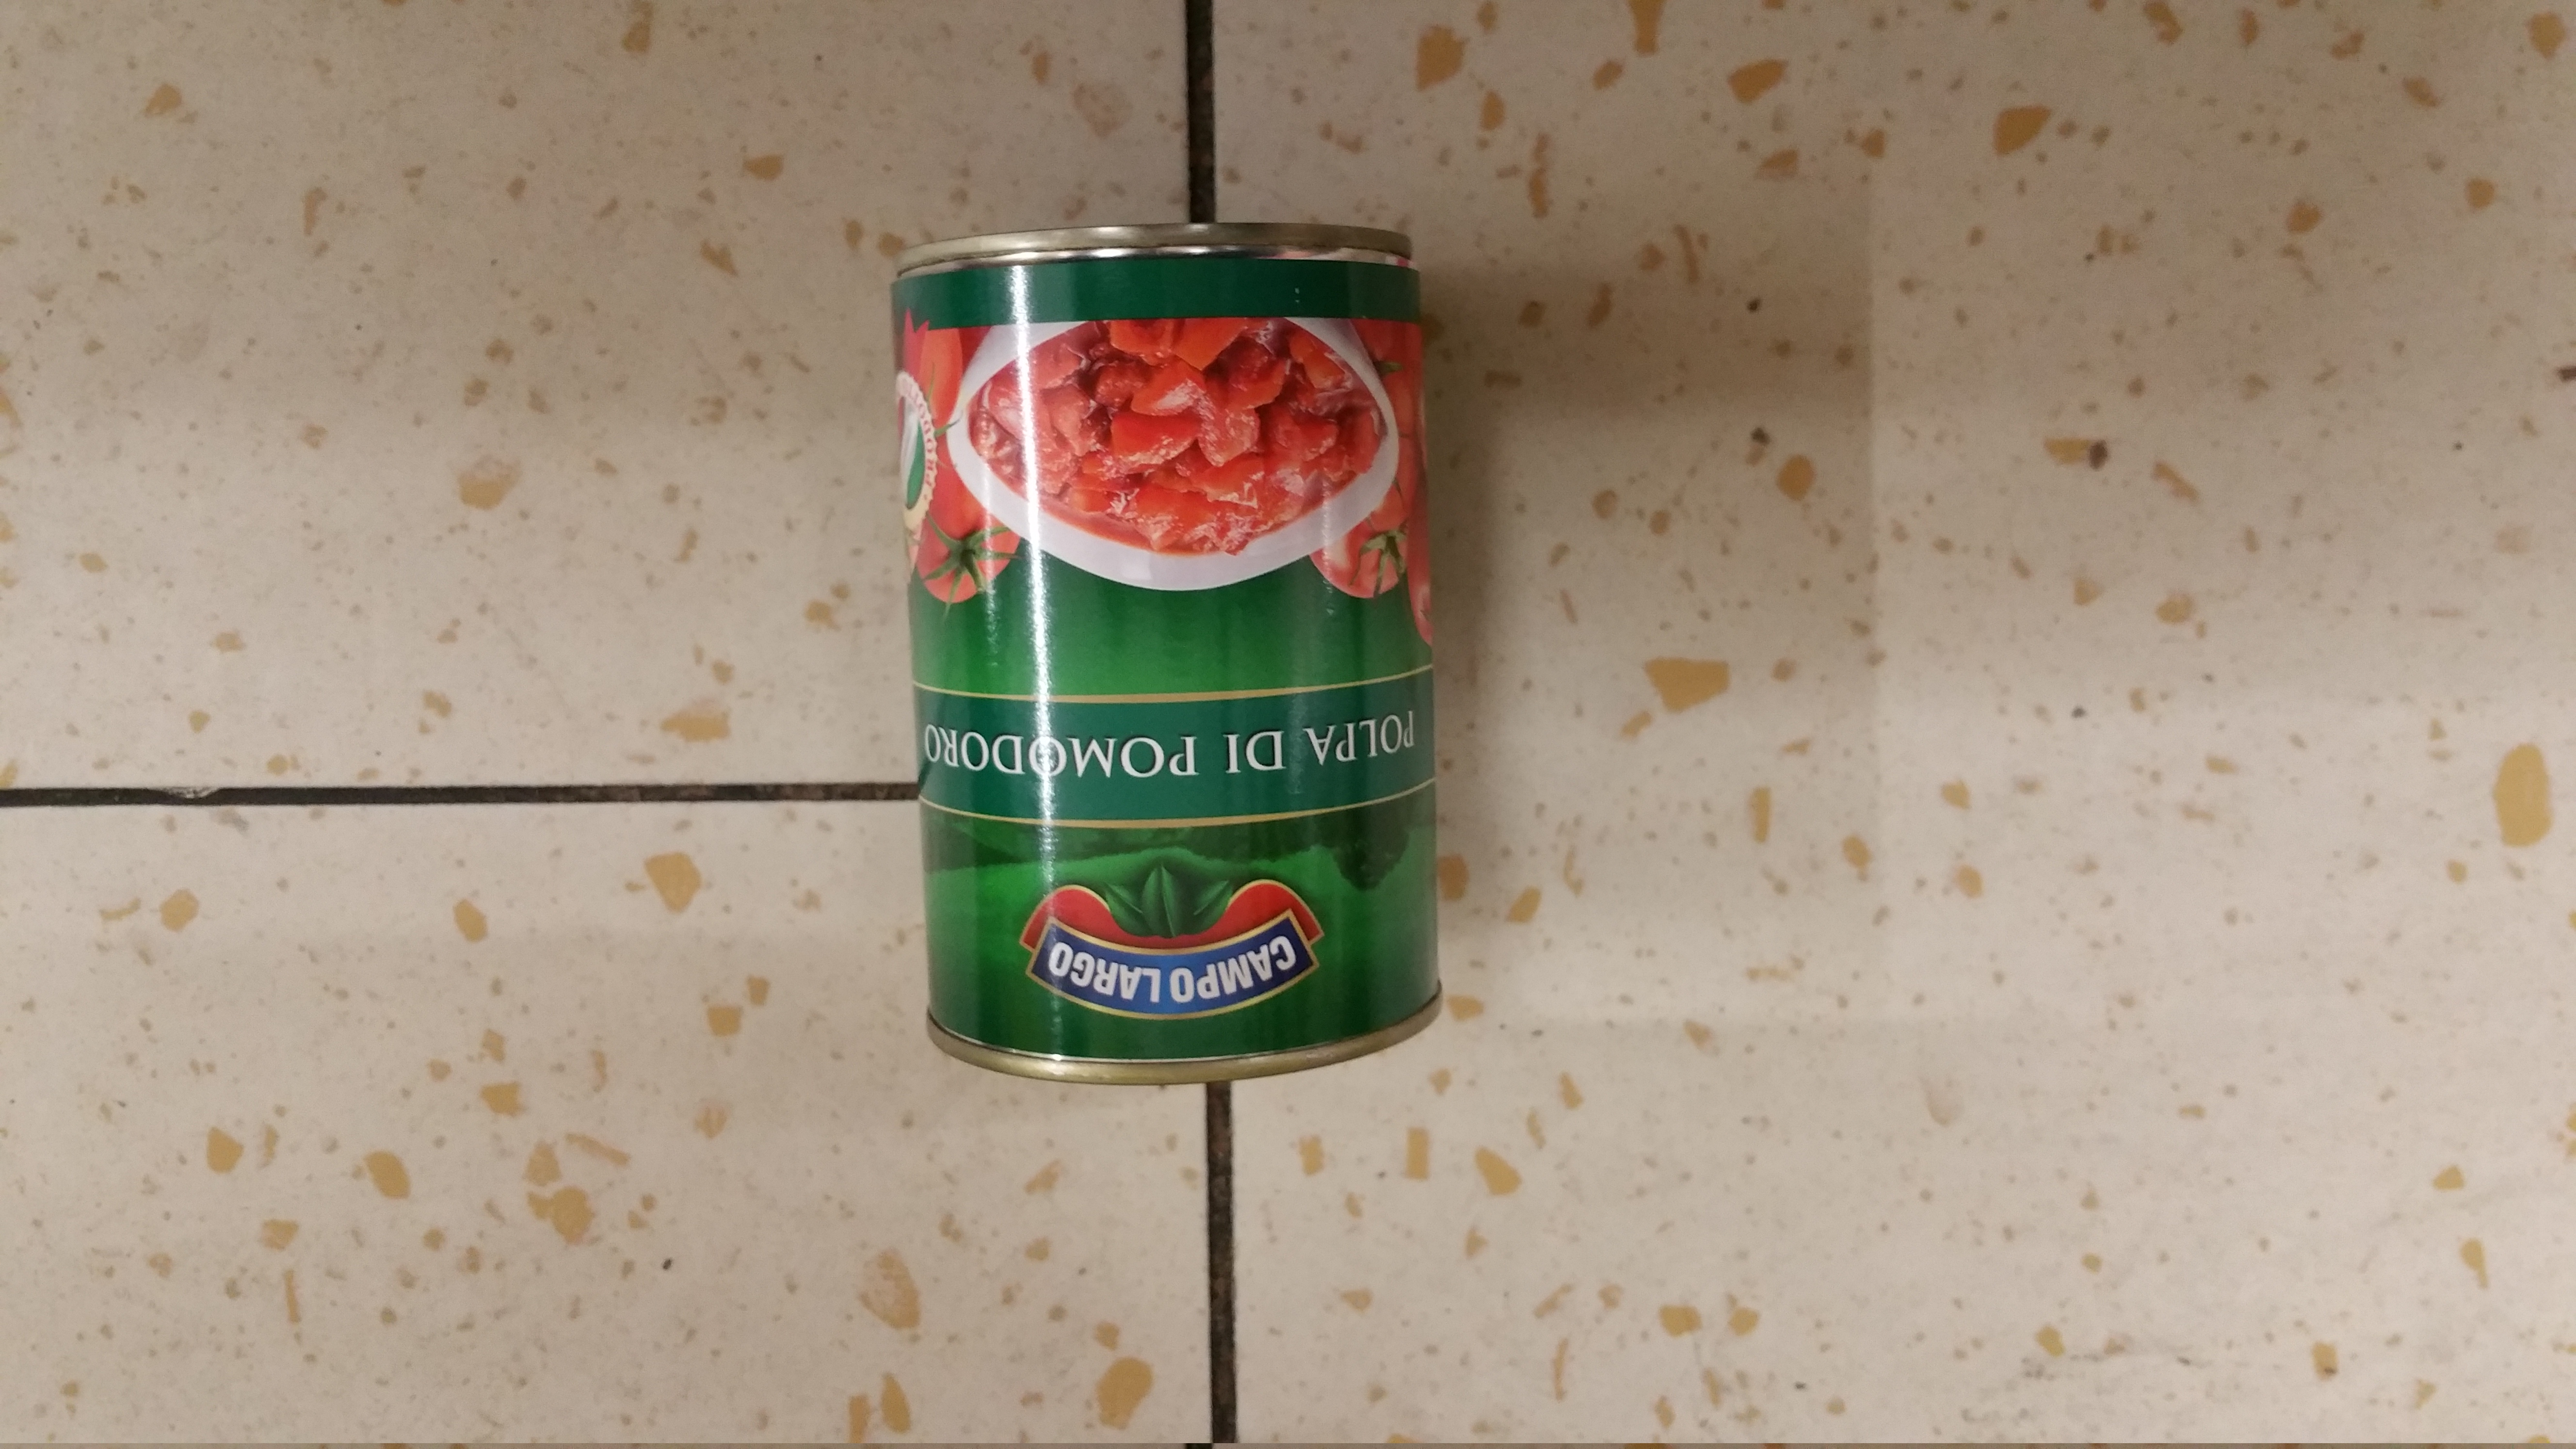metal: (865, 191, 1472, 1081)
